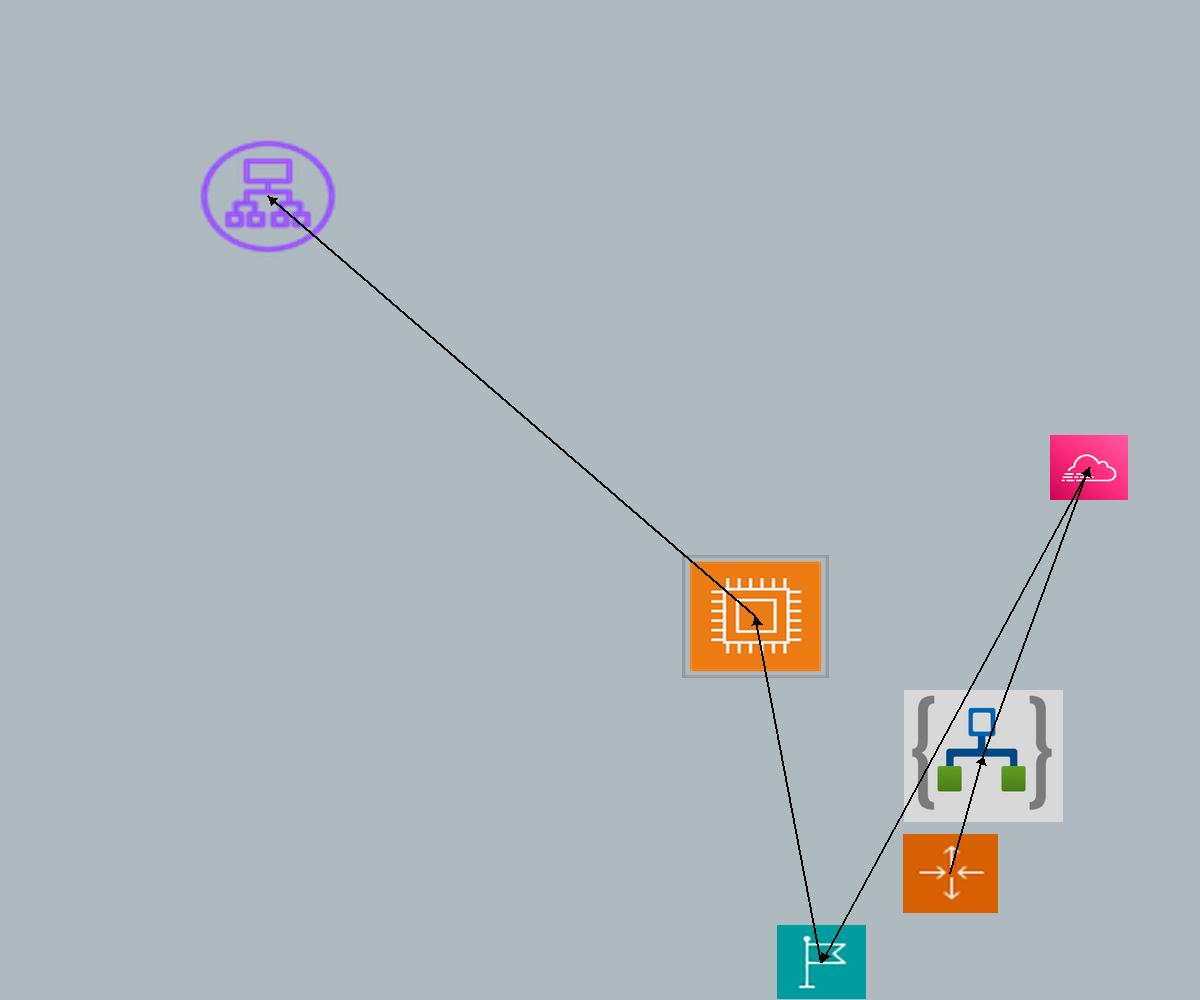AWS-Category_Compute: (682, 555, 829, 678)
AWS-CloudTrail: (1050, 435, 1128, 500)
AWS-Region: (777, 925, 866, 999)
AWS-Res_Elastic-Load-Balancing_Application-Load-Balancer: (195, 136, 341, 257)
AWS-Scaling-group: (903, 834, 998, 913)
Azure_integration-204-Logic-Apps: (904, 690, 1063, 822)
